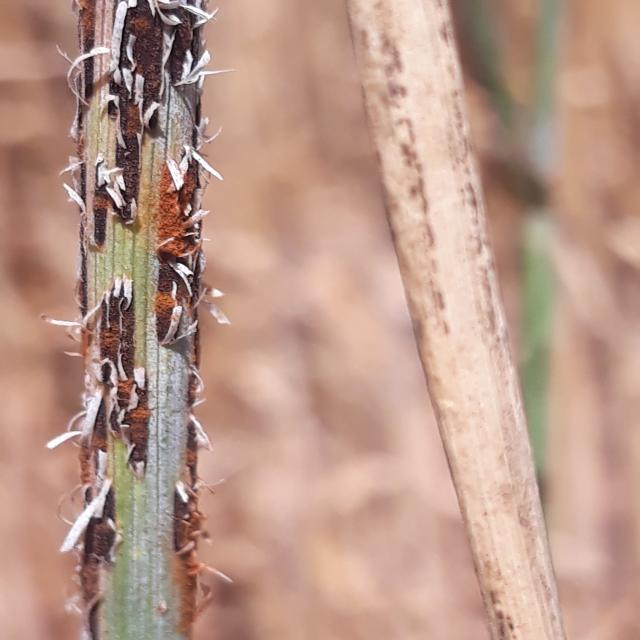black_stem_rust: (316, 0, 581, 640), (35, 0, 279, 640)
